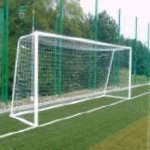goals: (9, 27, 135, 128)
